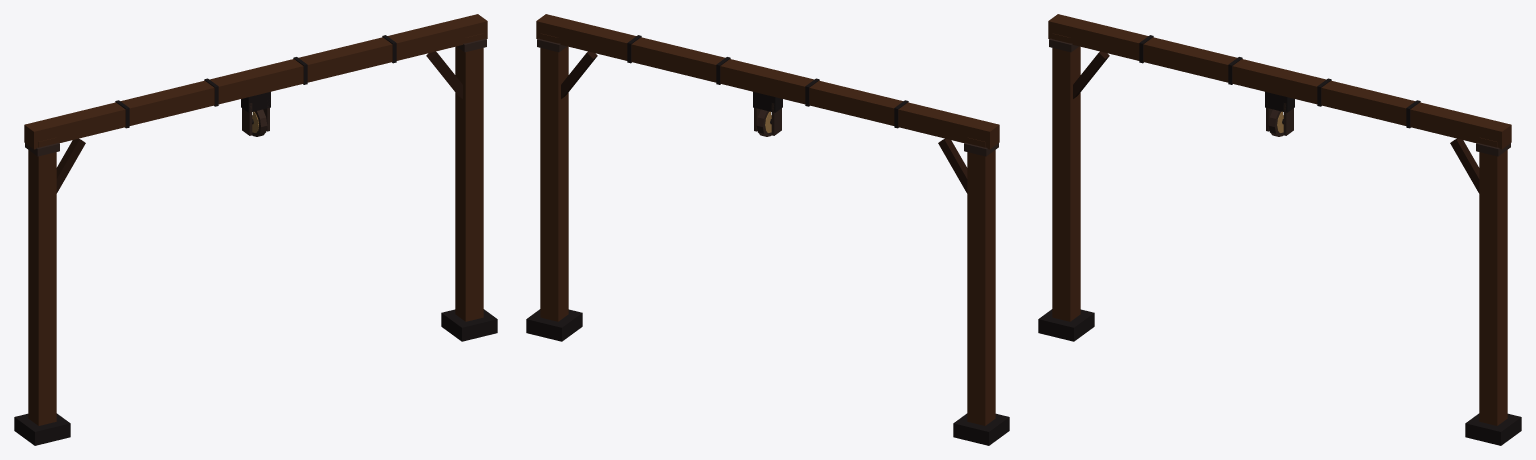
File: pulley_gantry.glb
3 views of the same model, side by side, from view 1: azimuth 30°, elevation 25°; view 2: azimuth 150°, elevation 25°; view 3: azimuth 330°, elevation 25° (orthographic).
Parts seen in each view (by area): view 1: pulley_gantry; view 2: pulley_gantry; view 3: pulley_gantry.
Part boxes in pixels (x1,y1,x2,y2): pulley_gantry: (14, 14, 497, 445); pulley_gantry: (526, 14, 1009, 445); pulley_gantry: (1038, 14, 1521, 445).
Bounding box in the file's own units: 10.4 × 6.66 × 0.8.
